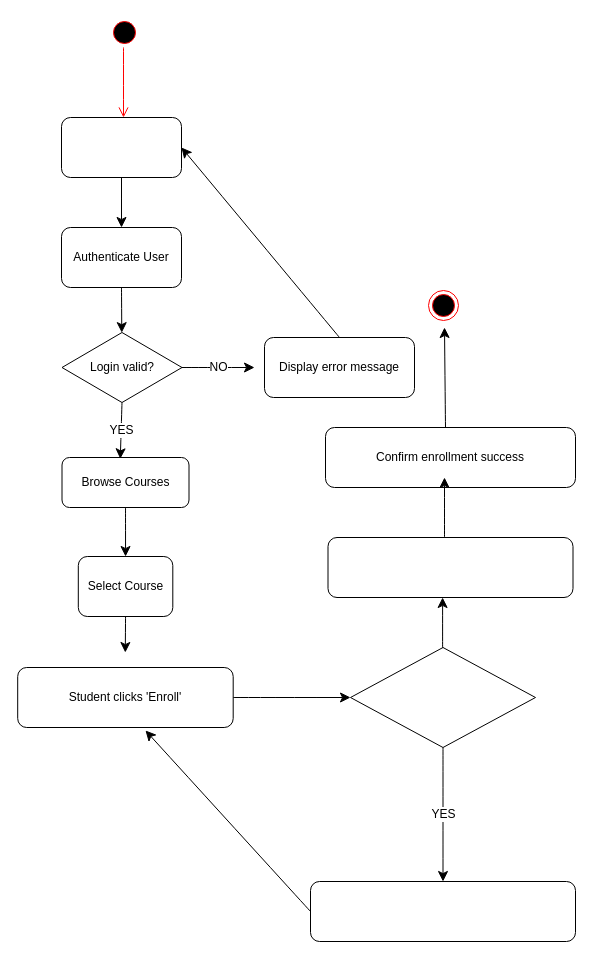
This 593x959 diagram has some shape labels left out. Each missing label, with the centre of its shape:
"Already enrolled?" goes at point (443, 697).
"Display message: Already enrolled" goes at point (443, 911).
"Login" goes at point (121, 147).
"Update Database" goes at point (450, 567).
